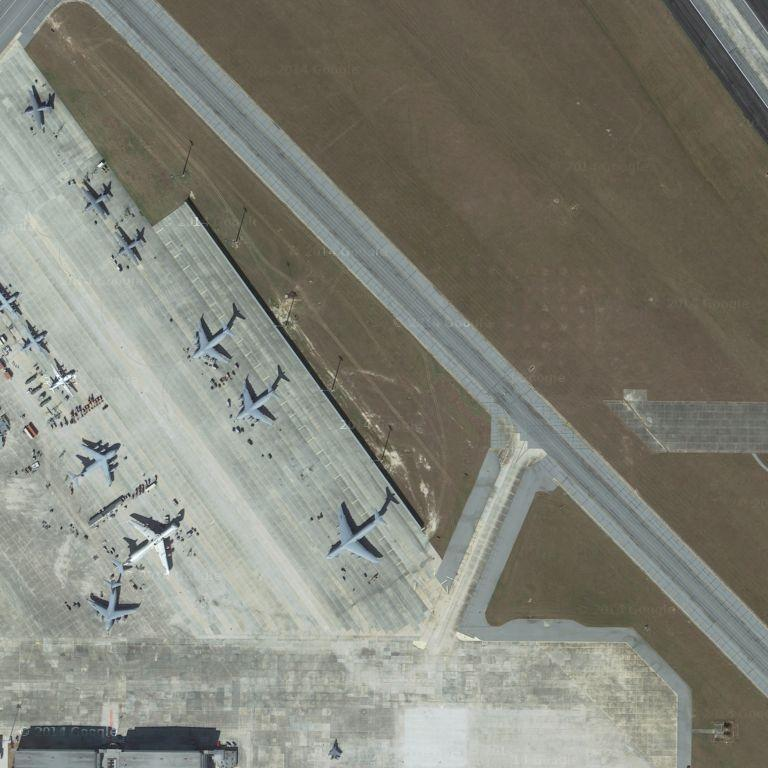C-130: (22, 86, 54, 133), (113, 229, 145, 266), (79, 182, 108, 221), (21, 323, 47, 361), (49, 363, 75, 399), (1, 287, 23, 323)
C-17: (323, 497, 392, 571), (83, 577, 143, 636), (191, 315, 236, 371), (234, 380, 284, 427), (73, 440, 123, 485)
E-8: (121, 515, 182, 576)
